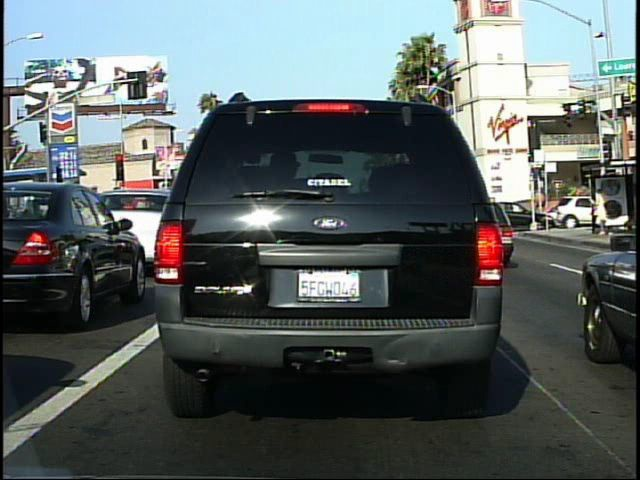person: (591, 183, 609, 237), (510, 199, 523, 227)
